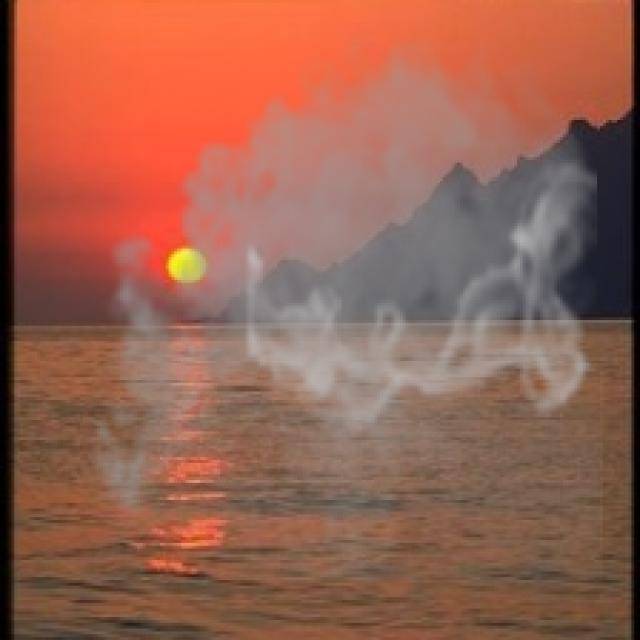Smoke: (74, 17, 603, 580)
